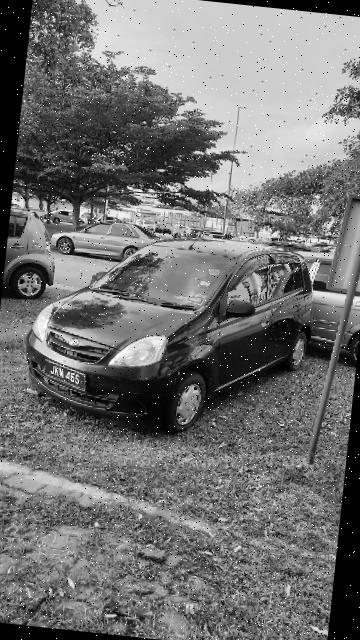License_Plate: (41, 357, 94, 396)
car: (18, 216, 327, 451)
